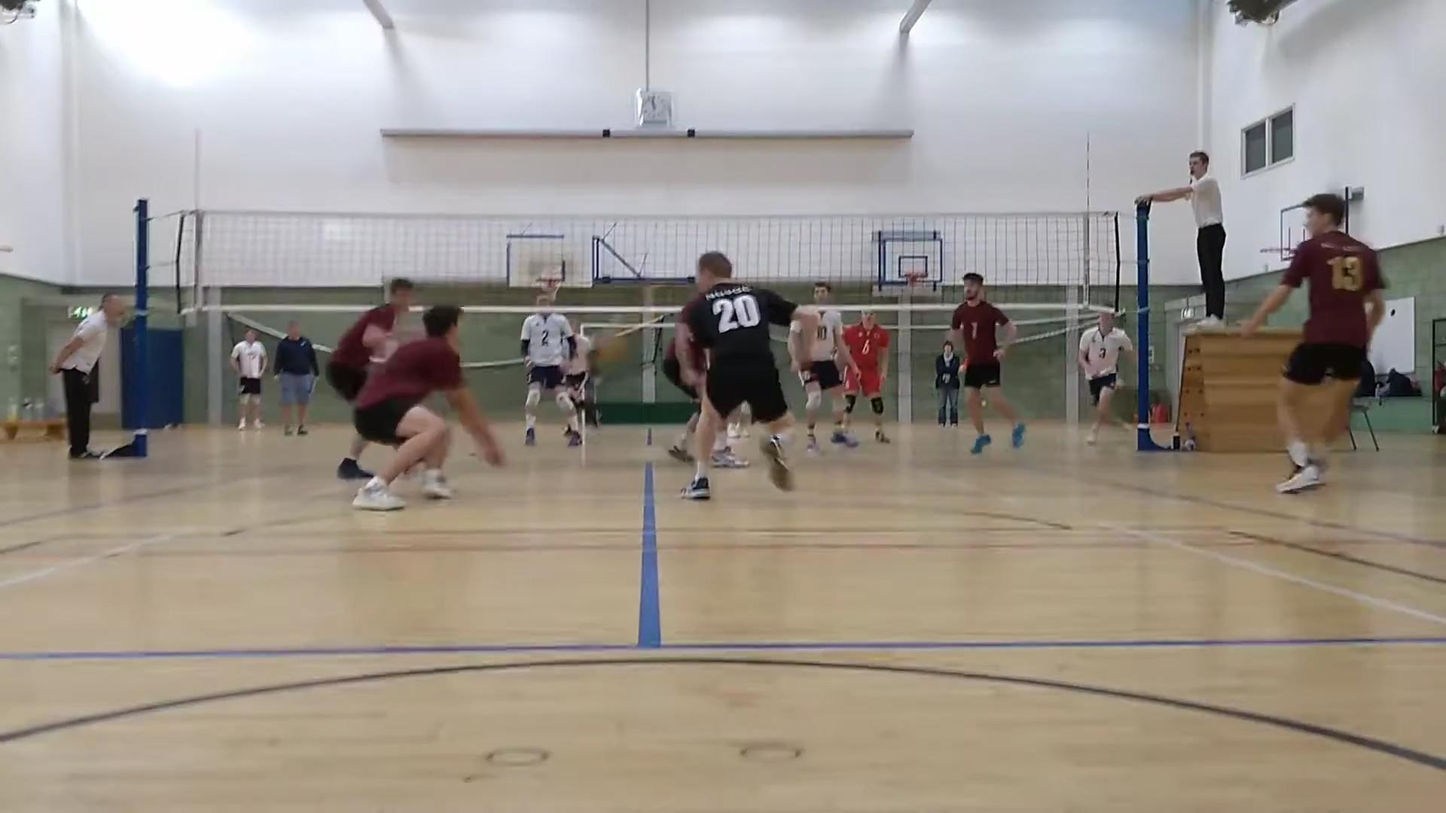difesa: (341, 300, 509, 512)
